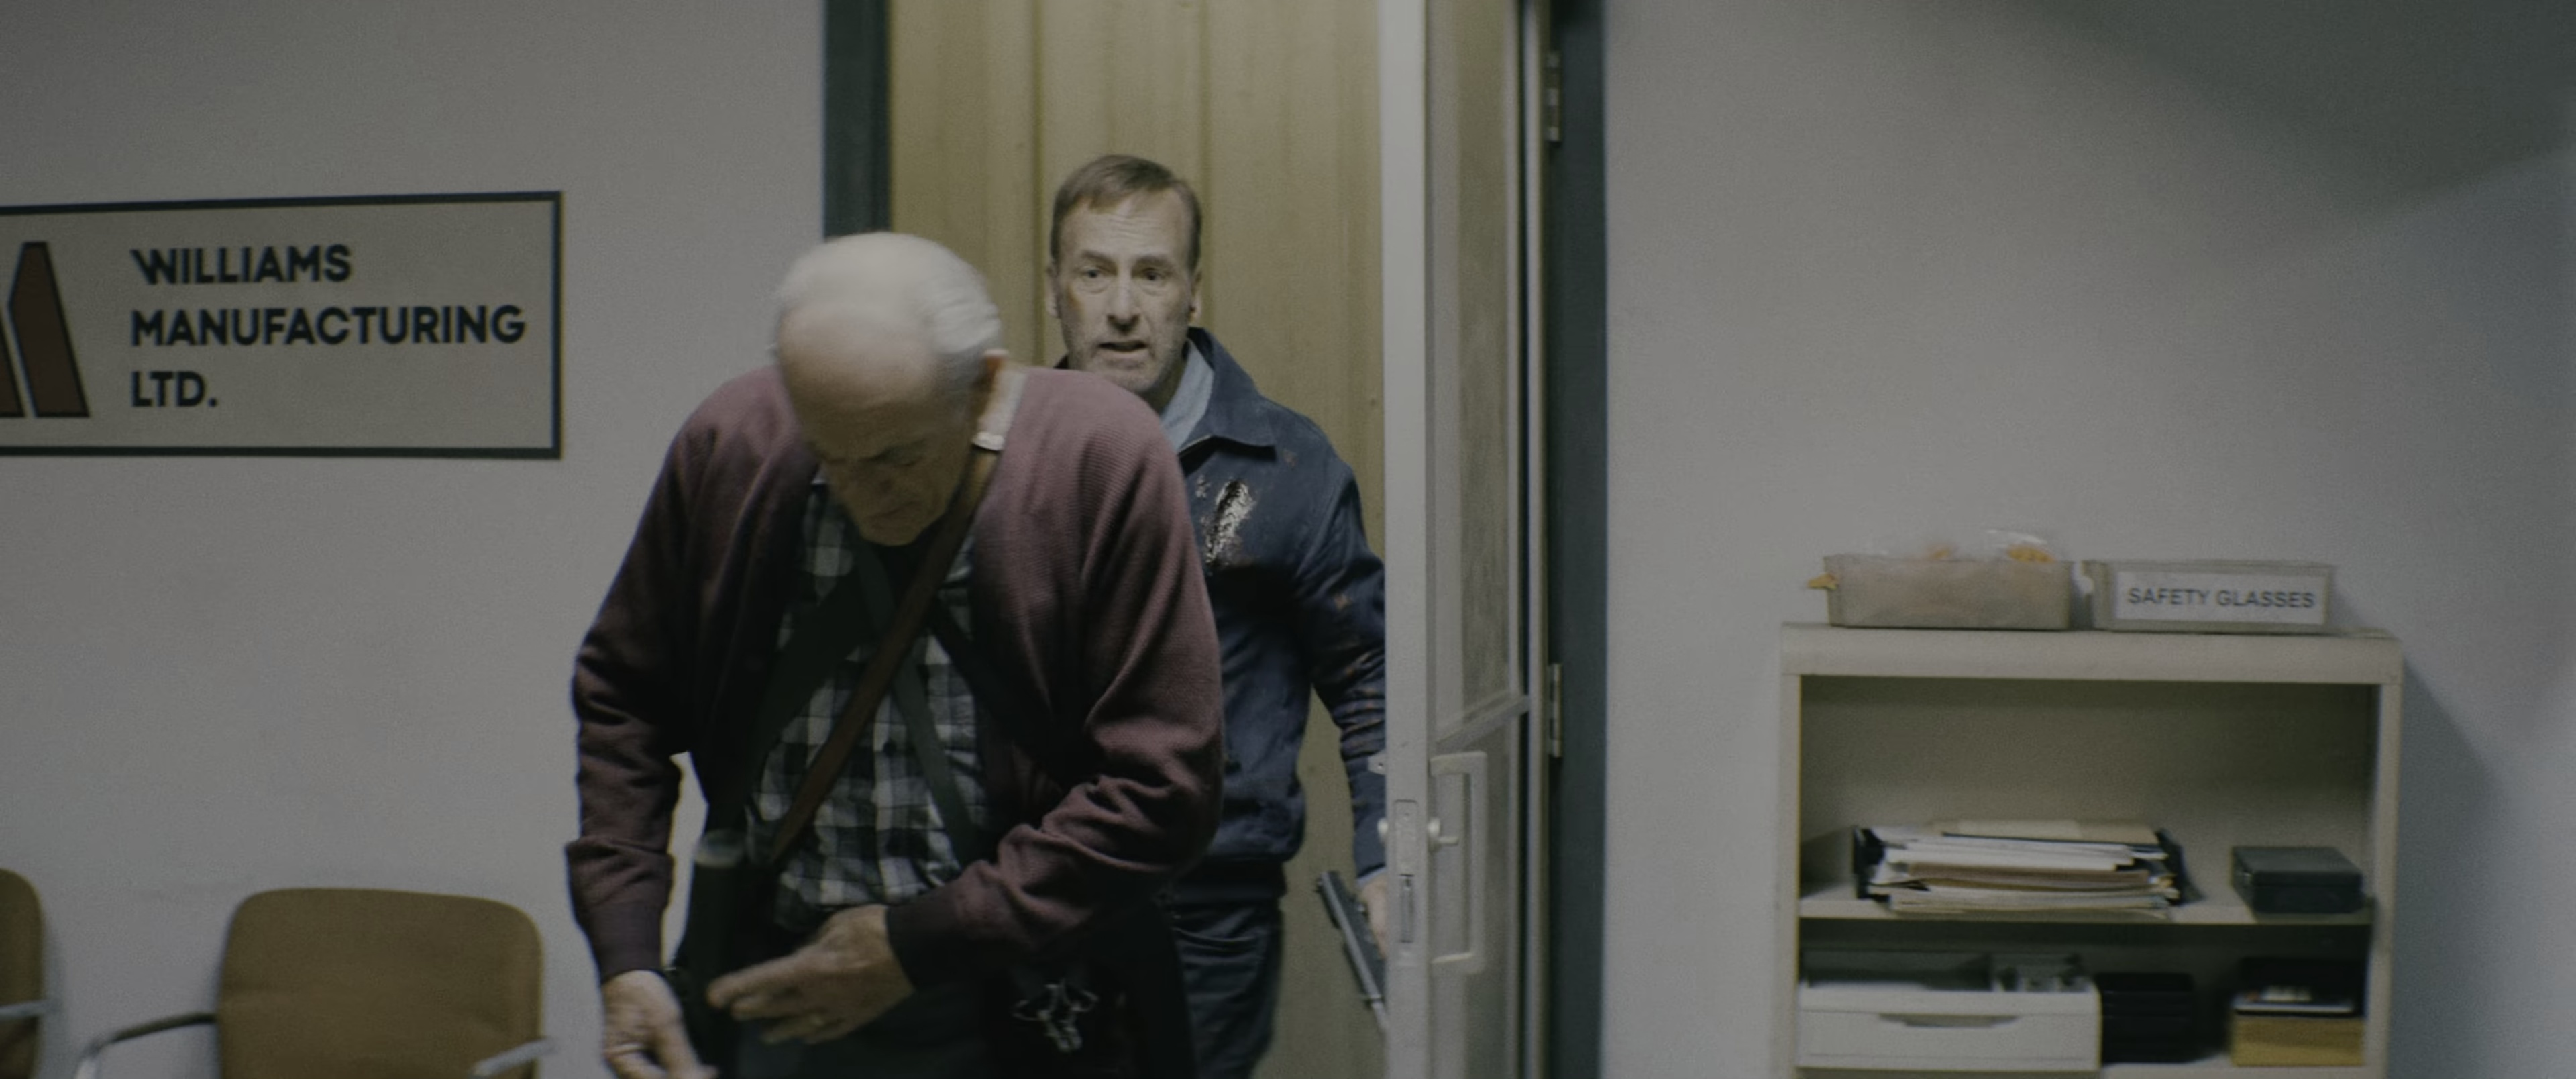gun: (1313, 865, 1403, 1045)
p_w_gun: (1020, 151, 1393, 1079)
p_wo_gun_carrying_another_object: (562, 228, 1229, 1079)
